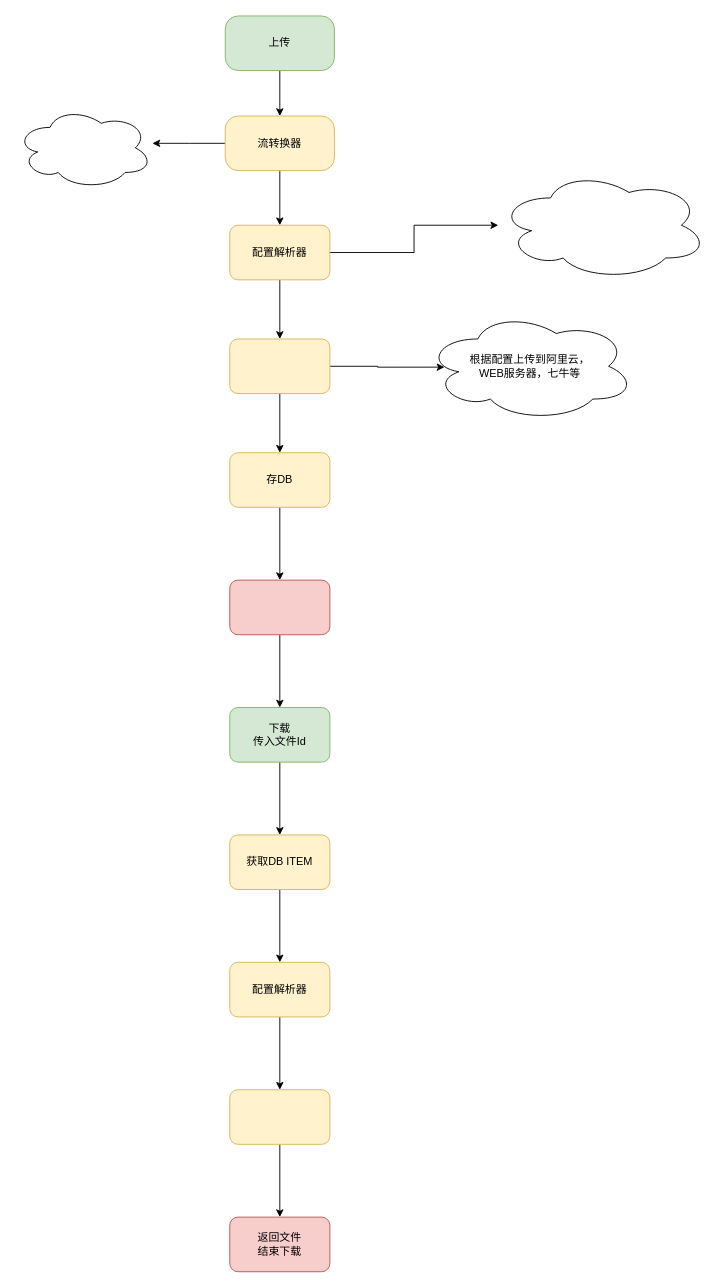
Image size: 723x1288. Some labels were removed from this diagram. The centre of each missing label's shape, as x and y in pixels:
"File,Base64等转成流" goes at point (83, 147).
"处理上传" goes at point (279, 366).
"生成文件地址" goes at point (279, 1116).
"目标上传方式， 上传文件验证， 获取上传配置结果" goes at point (602, 225).
"返回结果 结束上传" goes at point (279, 607).
